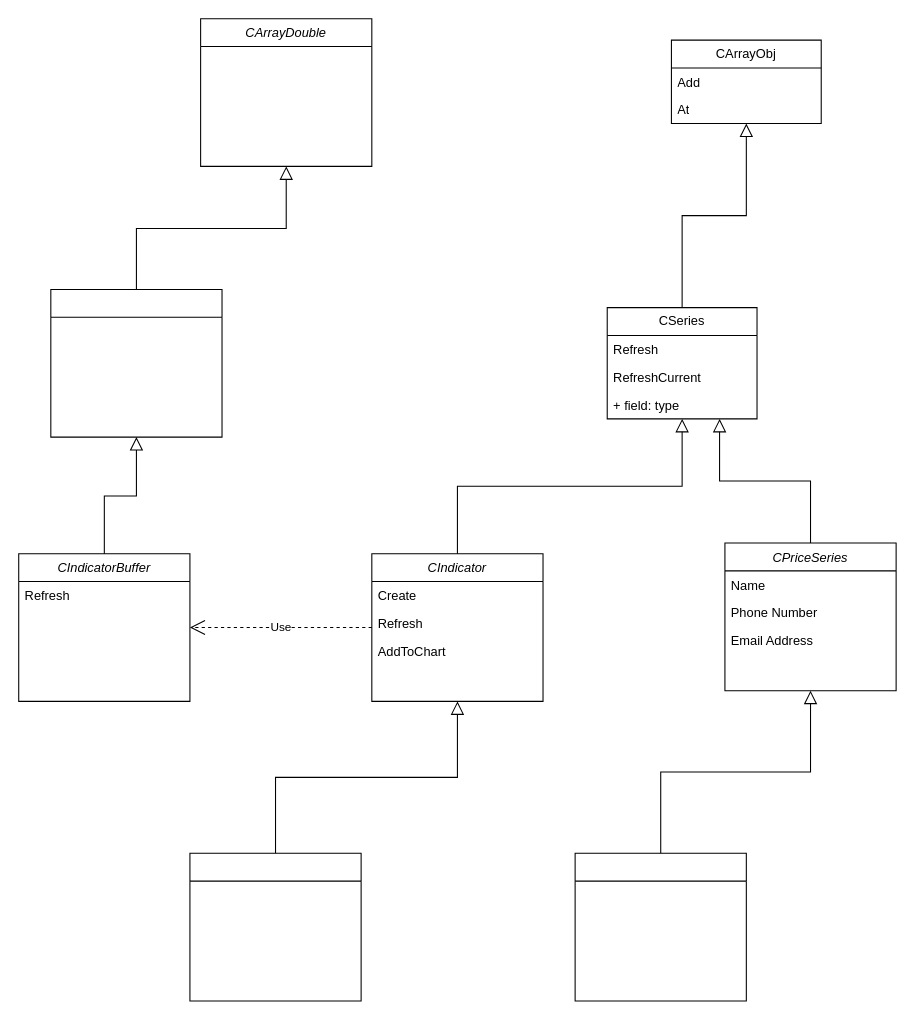
Image size: 915x1020. Some labels were removed from this diagram. The shapes that lost their labels are listed below. From the top down, each one's centre as x and y in pixels, then its label:
At [136,362]: "CDoubleBuffer".
At [275,926]: "CiSuperTrend".
At [660,926]: "COpen".
